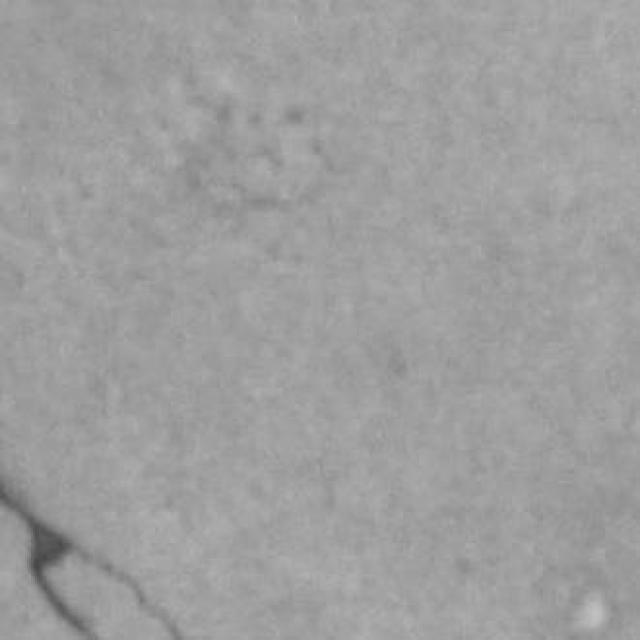crack: (0, 478, 184, 639)
